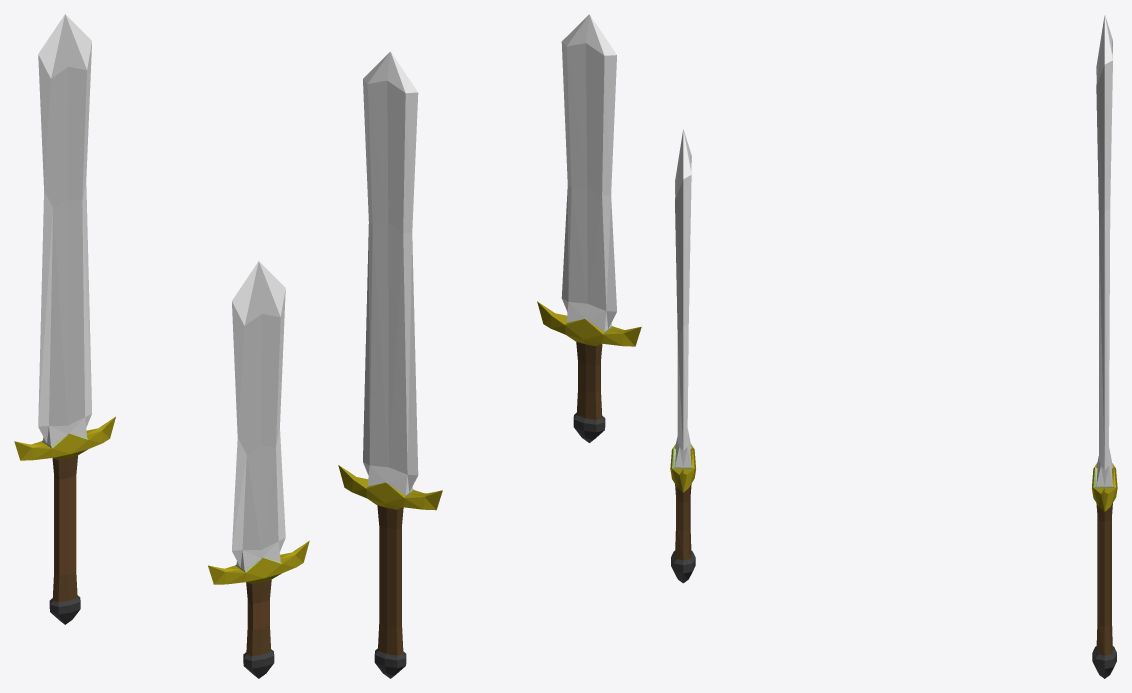
Rendered from short_and_long_sword.glb.
3 views of the same model, side by side, from view 1: azimuth 30°, elevation 25°; view 2: azimuth 150°, elevation 25°; view 3: azimuth 270°, elevation 25° (orthographic). The views are drawn at different scales.
Parts seen in each view (by area): view 1: Long sword, Short Sword; view 2: Long sword, Short Sword; view 3: Long sword, Short Sword.
Part boxes in pixels (x1,y1,x2,y2): Long sword: (14, 14, 115, 624); Short Sword: (208, 261, 309, 678); Long sword: (338, 51, 442, 678); Short Sword: (537, 14, 641, 442); Long sword: (1092, 14, 1117, 678); Short Sword: (670, 129, 695, 583).
Bounding box in the file's own units: 0.6083 × 3.48 × 2.12.
Materials: 2 (2 with a texture image).
